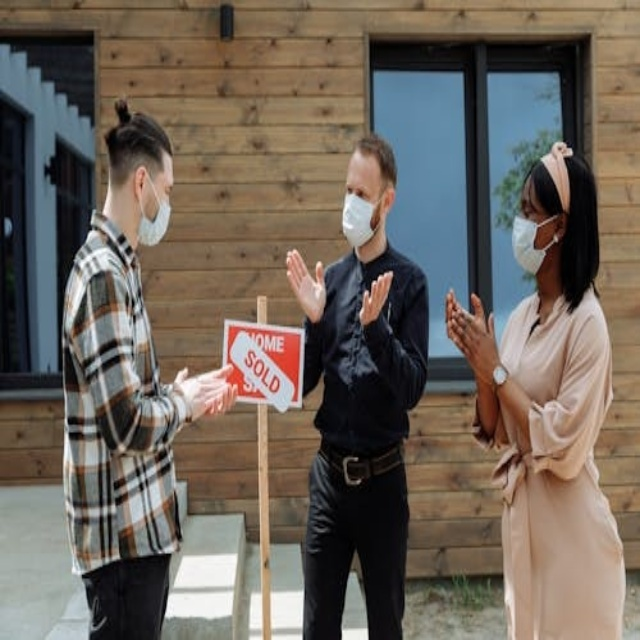Mascara: (510, 212, 560, 275), (136, 169, 172, 246), (342, 189, 384, 247)
Sin_gafas: (343, 175, 379, 206), (517, 190, 543, 225), (154, 171, 173, 202)
Sin_guantes: (447, 290, 499, 382), (177, 362, 238, 423), (285, 249, 326, 319), (358, 268, 395, 330)
